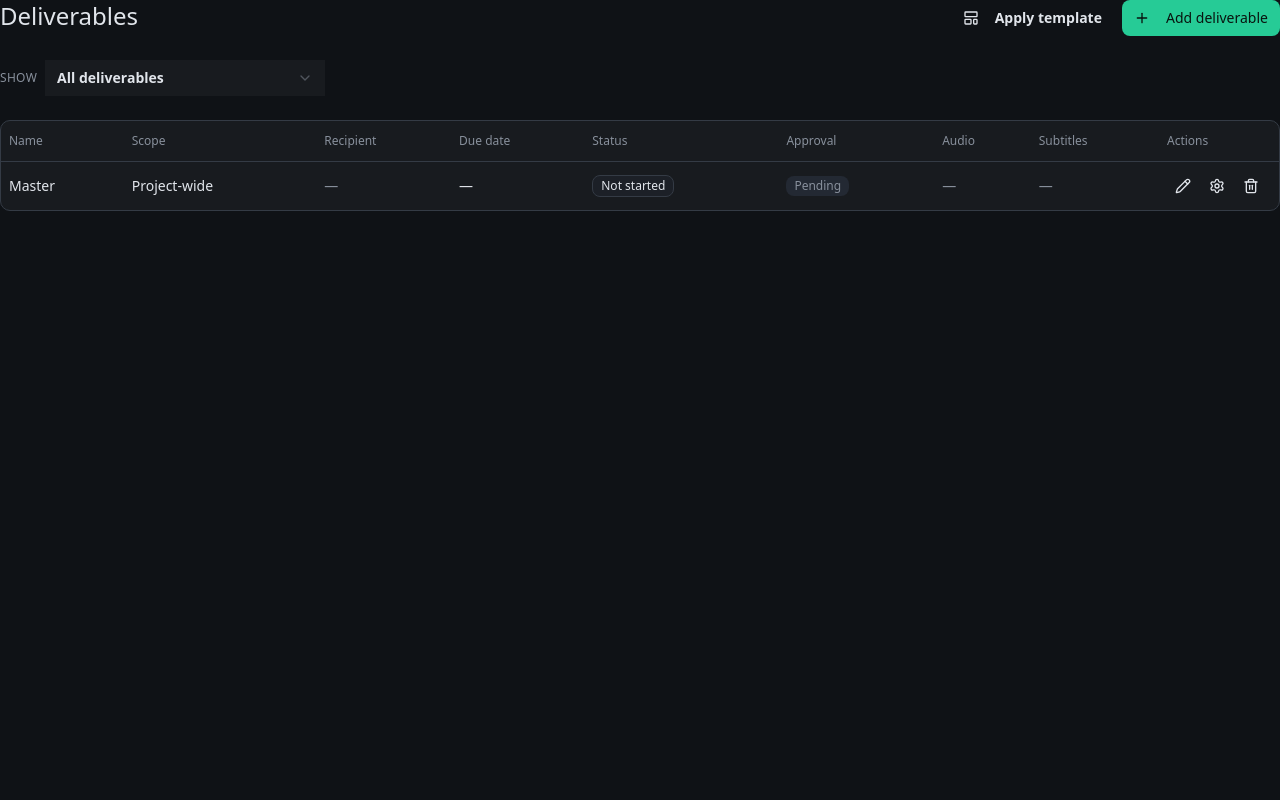
DeliverablesPage episodic scope › episodic: Show filter, Scope column, and scope in add dialog
Expected: the text "Show" is shown, [0,70,37,86]
Expected: the column heading "Scope" is shown, [124,121,316,161]
What coordinates should you click on to do the following:
click the button "Add deliverable"
I would click on:
 (1201, 18)
Its box is [1122,0,1279,36].
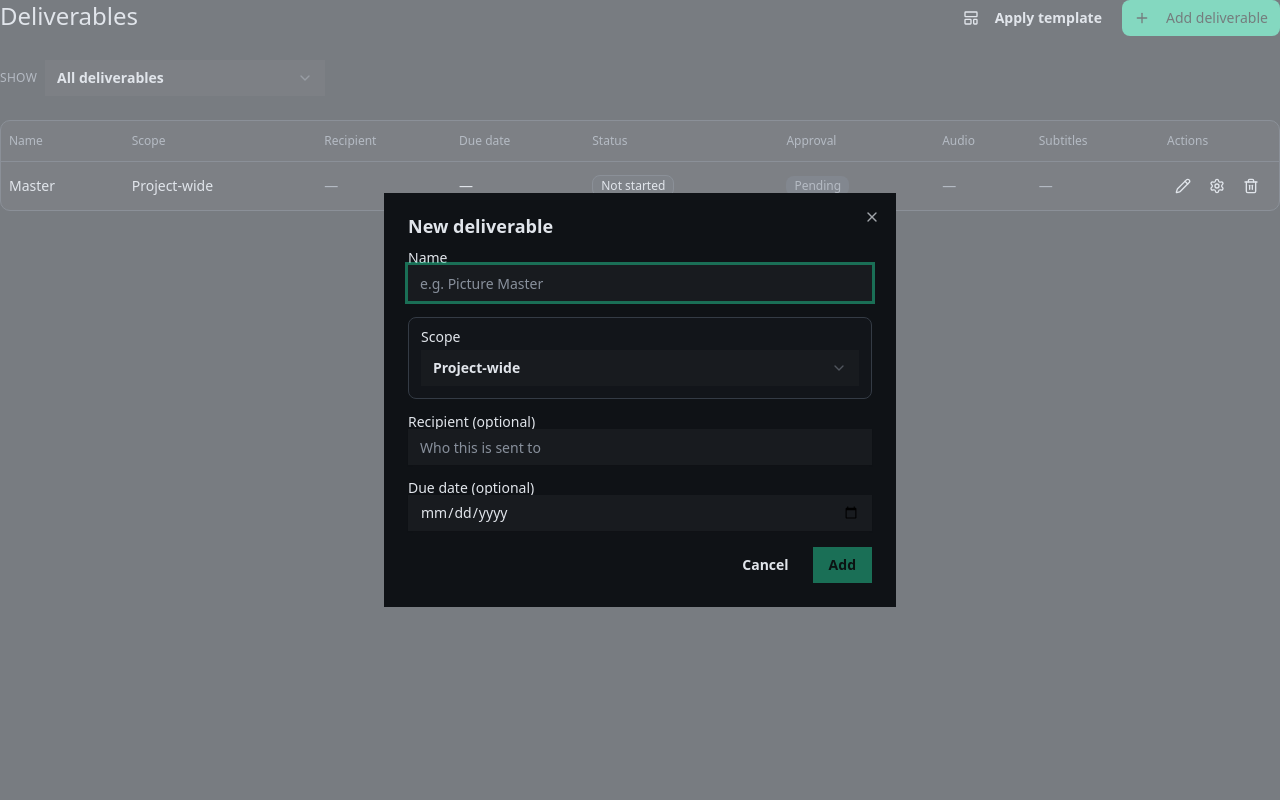
Expected: the text "Scope" is shown, [421,327,460,346]
What coordinates should you click on to do the following:
click the dropdown
I would click on:
 (477, 368)
Its box is [421,350,859,386].
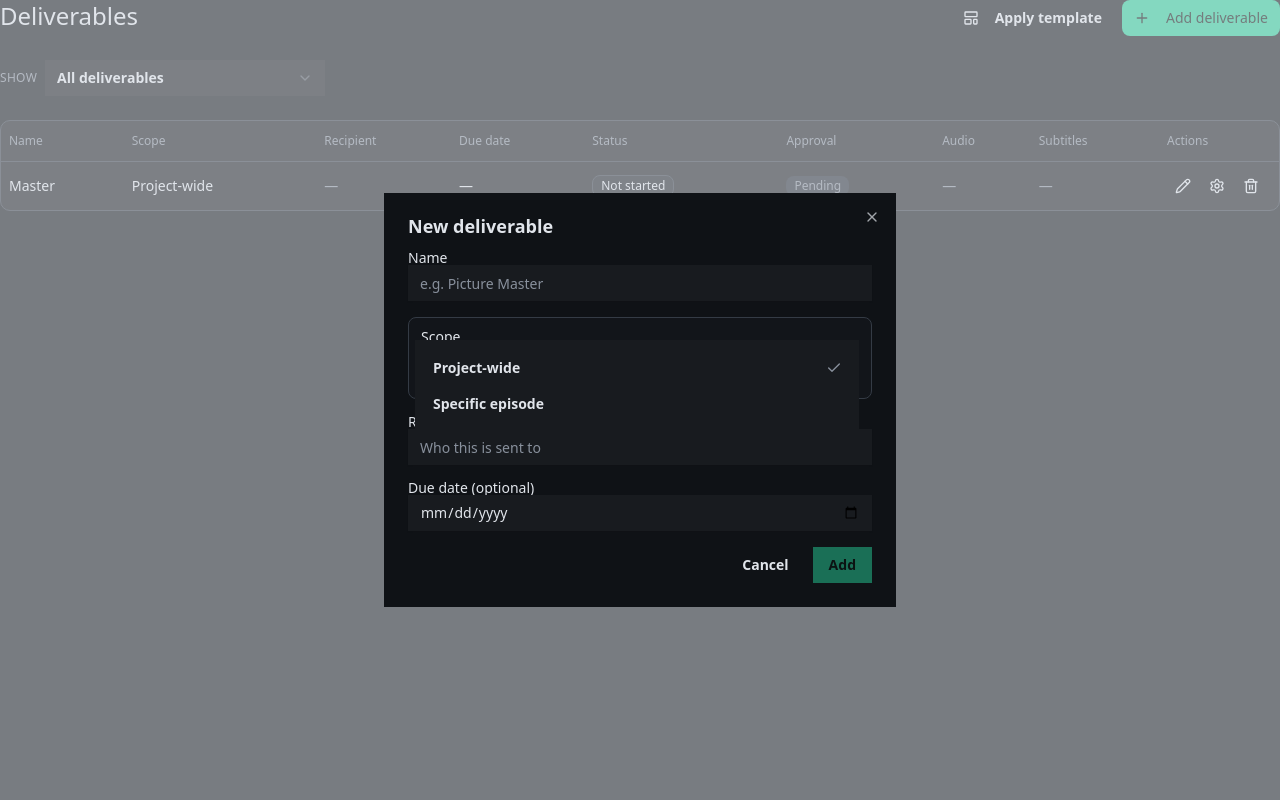
Expected: the option "Specific episode" is shown, [433,394,544,413]
